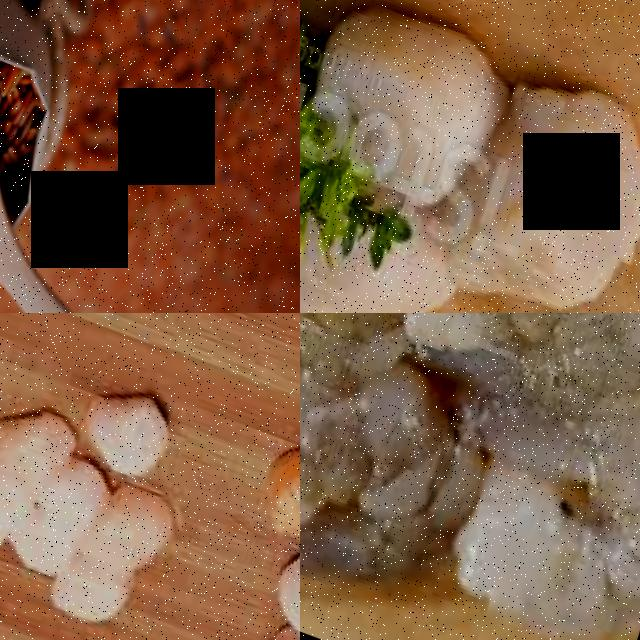sea scallops: (58, 373, 179, 488), (70, 479, 175, 581), (28, 546, 128, 637), (233, 435, 300, 553), (240, 540, 300, 640), (0, 437, 33, 552)
spinach: (410, 396, 640, 640), (300, 367, 489, 634), (363, 313, 640, 457)
